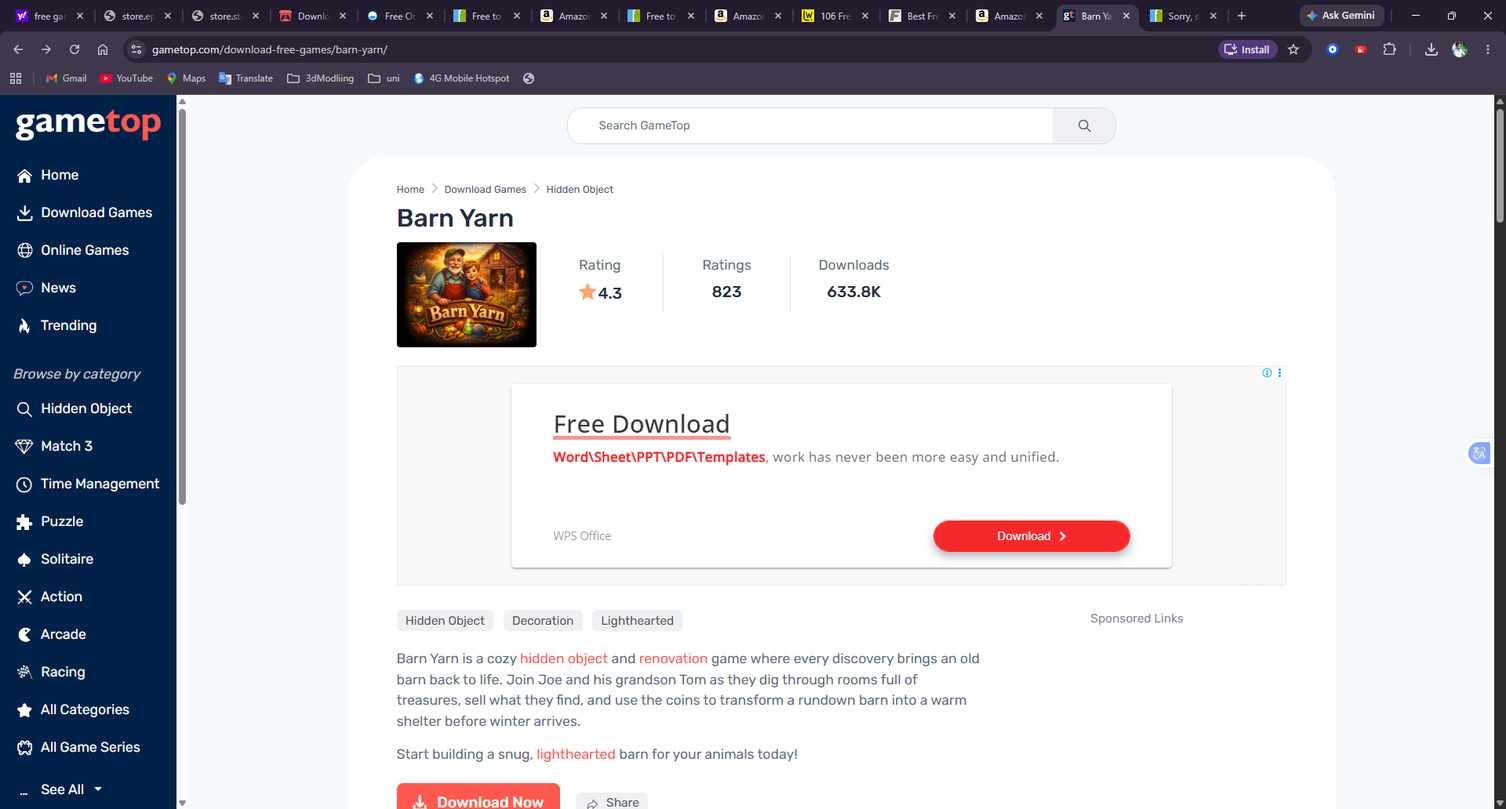fake_button: (920, 505, 1145, 564)
